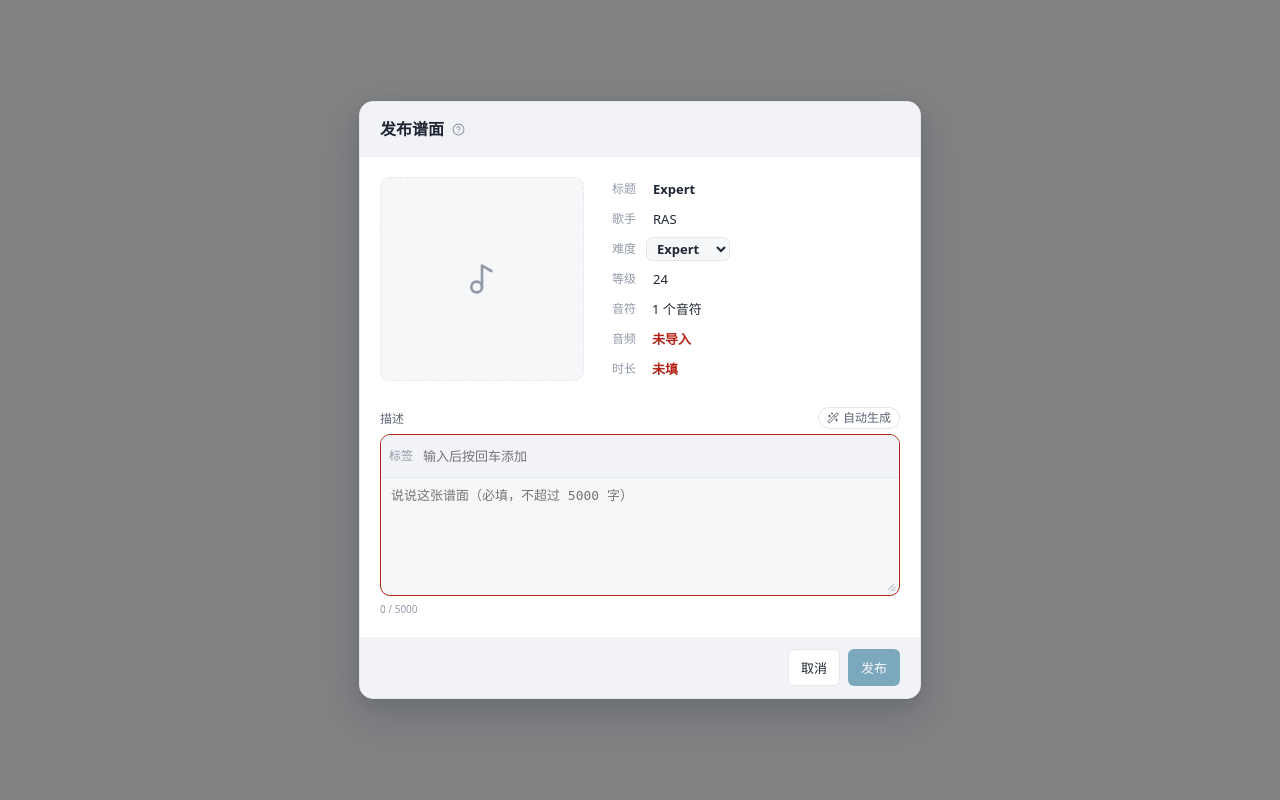
Test case: 票 11 · 发布弹窗：递出去的入参 › custom 上传引用读不到：发布键禁用 + 就地一行（不静默放行）
Type "x" into the text box with placeholder "说说这张谱面（必填，不超过 5000 字）" at point(640, 536), box [381,478,899,595]
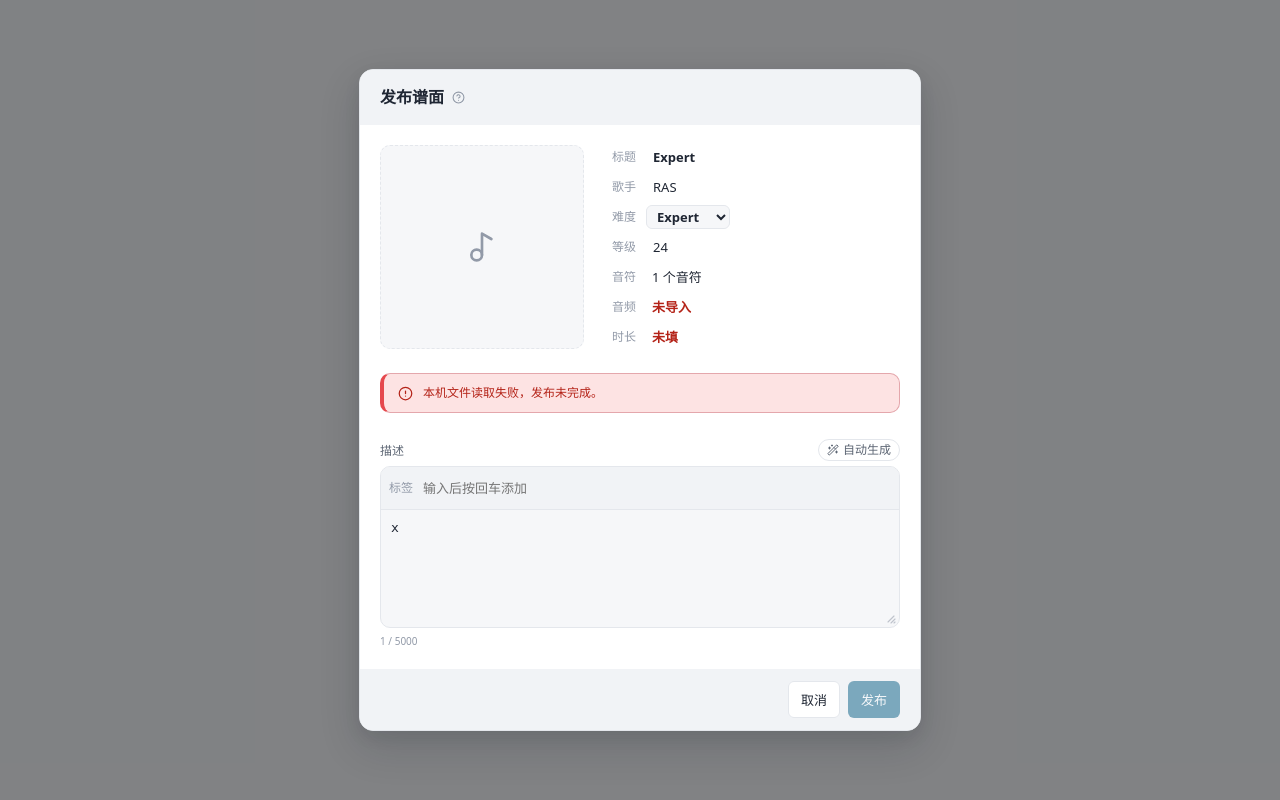
Check: the button "发布" is disabled, box [848,681,900,718]
Check: the text "本机文件读取失败，发布未完成。" is shown, box [423,384,603,401]
